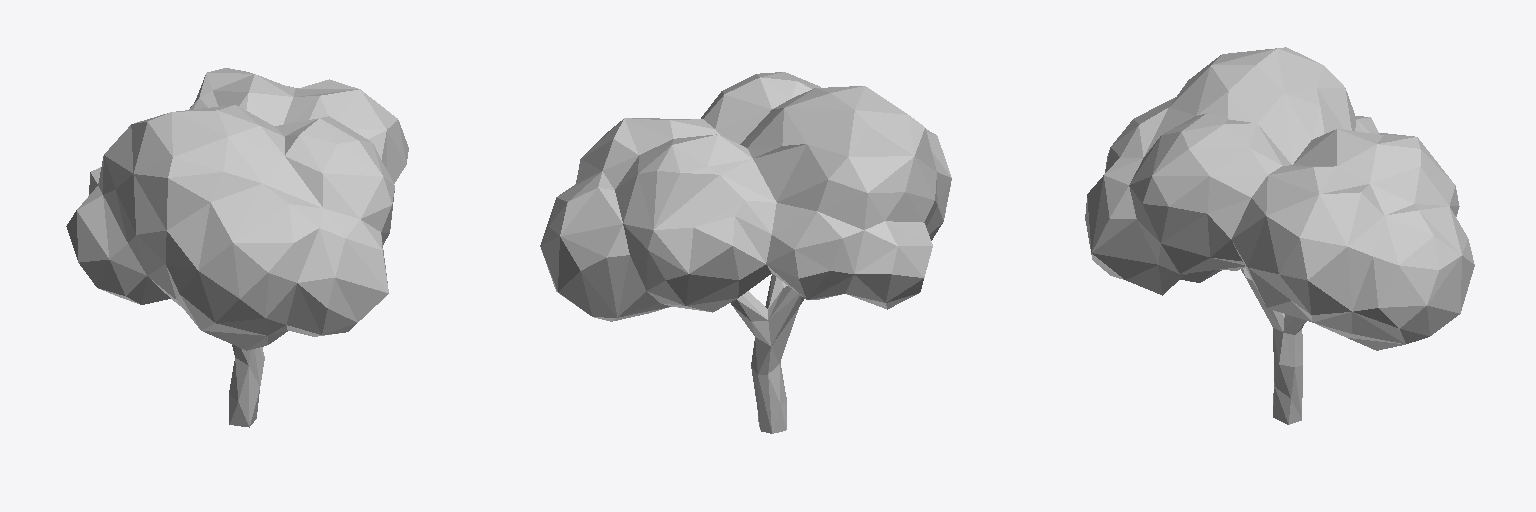
The model's file is tree_1.obj.
3 views of the same model, side by side, from view 1: azimuth 30°, elevation 25°; view 2: azimuth 150°, elevation 25°; view 3: azimuth 270°, elevation 25° (orthographic).
Visible parts, largest first — view 1: leafes, stem; view 2: leafes, stem; view 3: leafes, stem.
Boxes of the visible parts, x1,y1,x2,y2 form: leafes: [66, 68, 408, 350]; stem: [229, 345, 264, 427]; leafes: [540, 72, 951, 321]; stem: [731, 274, 804, 433]; leafes: [1085, 47, 1474, 350]; stem: [1241, 267, 1306, 424].
Size of the model in its own units: 3.1 by 2.96 by 3.14.